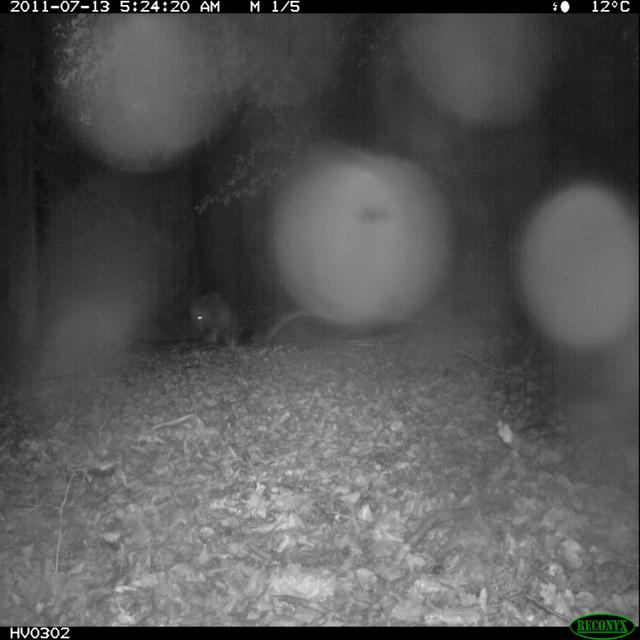boar: (178, 262, 263, 378)
